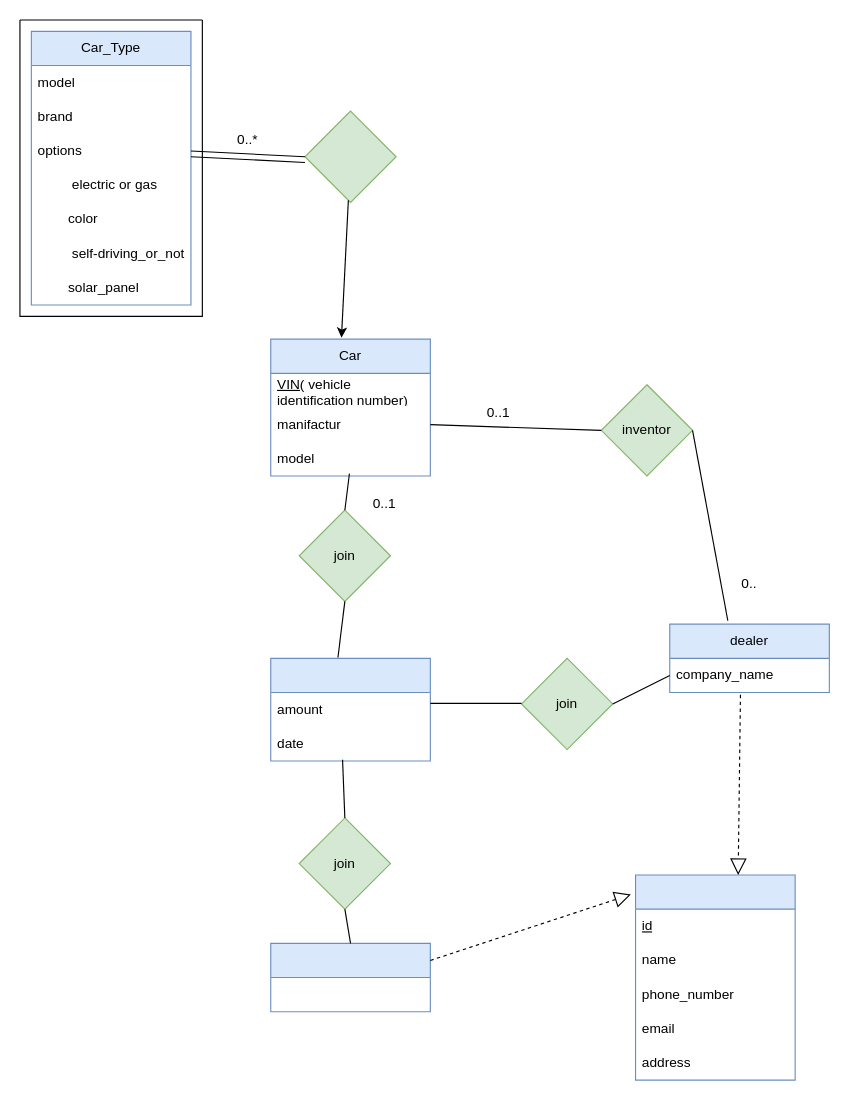
This 849x1100 diagram has some shape labels left out. Here are the shapes that lost their labels. From the top down, the box of each, then its label:
(304, 110, 396, 202): Type
(270, 657, 430, 761): sale
(270, 942, 430, 1012): customer
(634, 874, 795, 1080): Person
